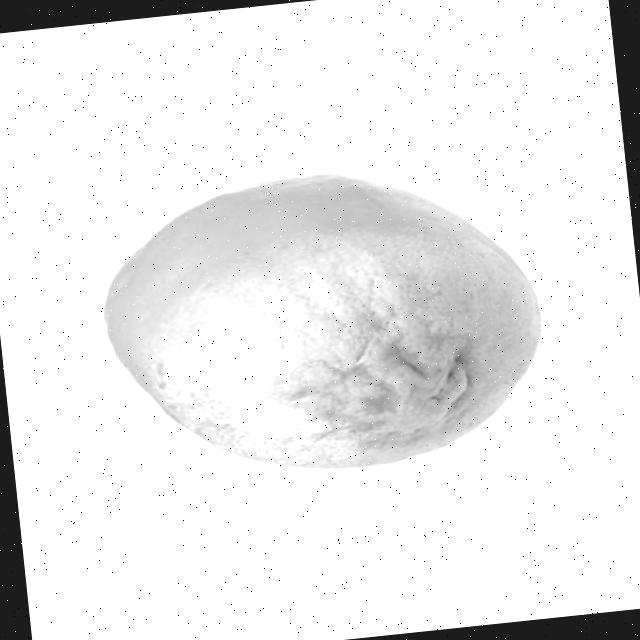Rotten: (86, 149, 556, 494)
